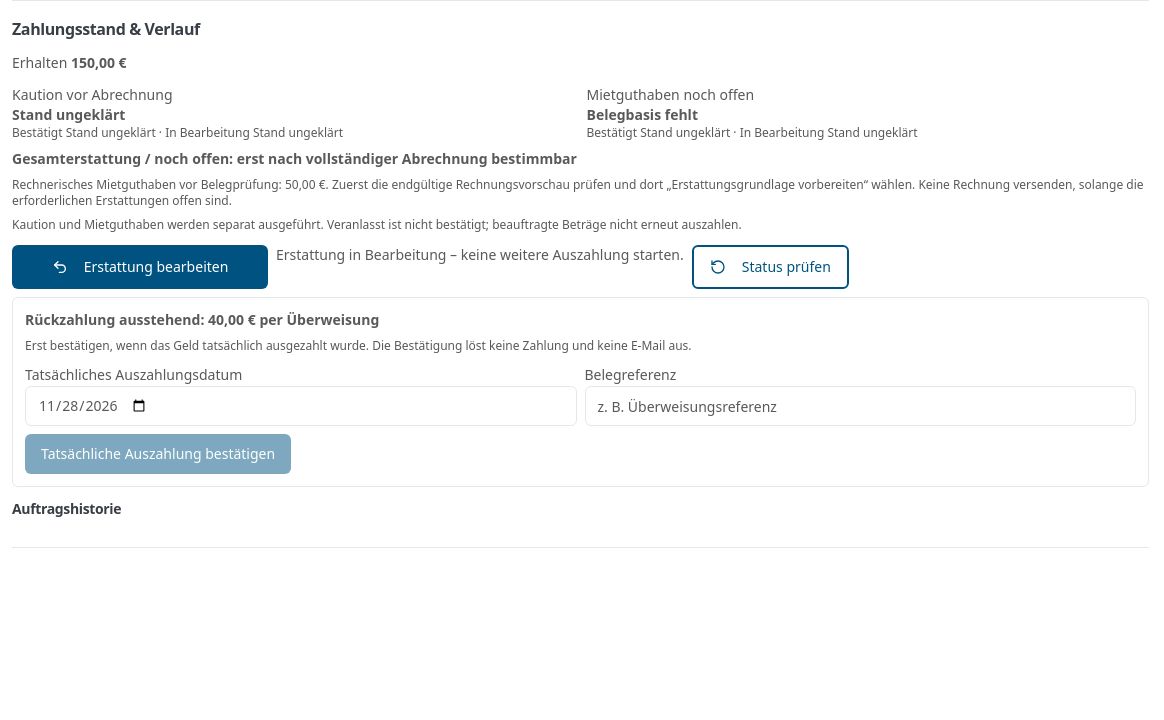
Test case: confirmation needs evidence and a past date, sends both, and only succeeds after the server persisted it
Expected: the text "Rückzahlung ausstehend: 40,00 € per Überweisung" is shown, top-left (25, 310), bottom-right (379, 329)
Expected: the button "Tatsächliche Auszahlung bestätigen" is disabled, top-left (25, 434), bottom-right (291, 474)
Type "Kasse 7" into the field labelled "Belegreferenz" at (860,406), box top-left (584, 386), bottom-right (1136, 426)
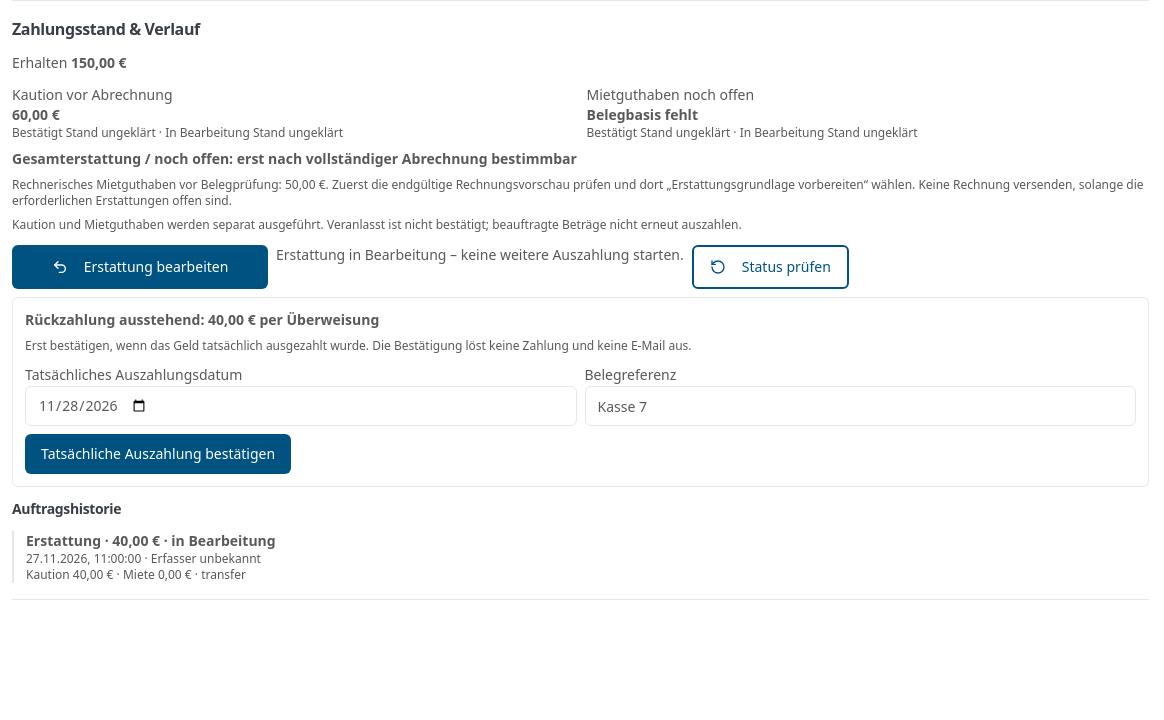
Type "2999-01-01" into the date field labelled "Tatsächliches Auszahlungsdatum" at (301,406), box top-left (25, 386), bottom-right (576, 426)
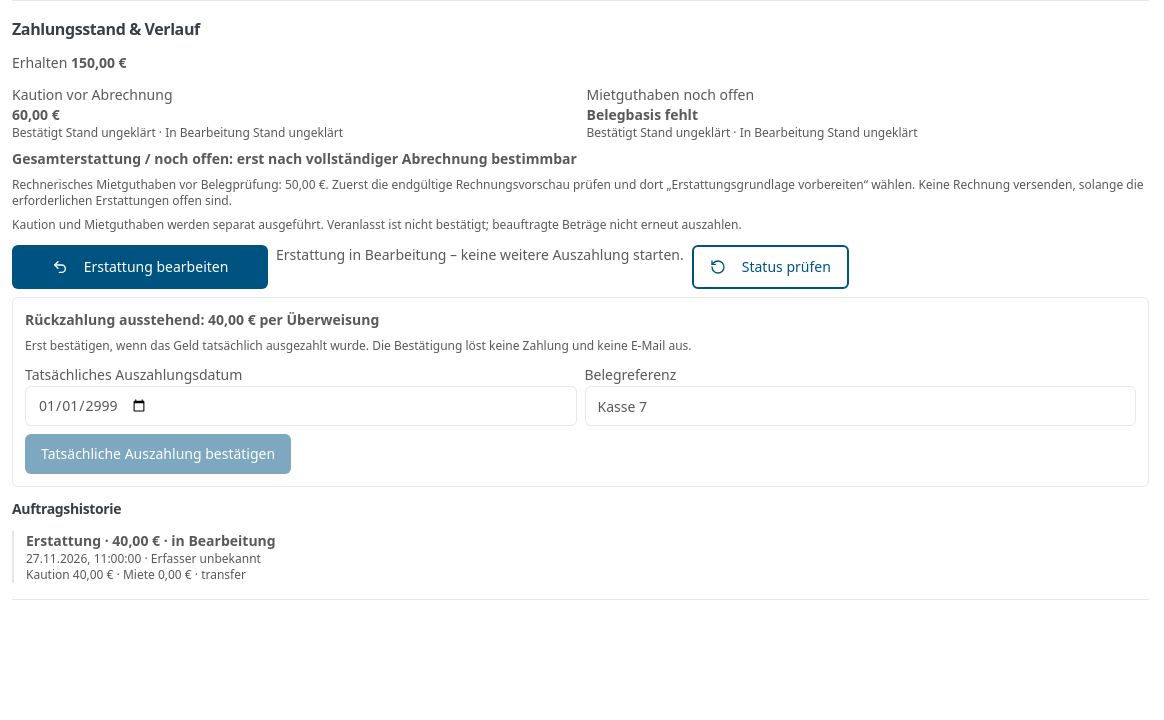
Now the button "Tatsächliche Auszahlung bestätigen" is disabled, box top-left (25, 434), bottom-right (291, 474)
Type "2026-11-27" into the date field labelled "Tatsächliches Auszahlungsdatum" at (301,406), box top-left (25, 386), bottom-right (576, 426)
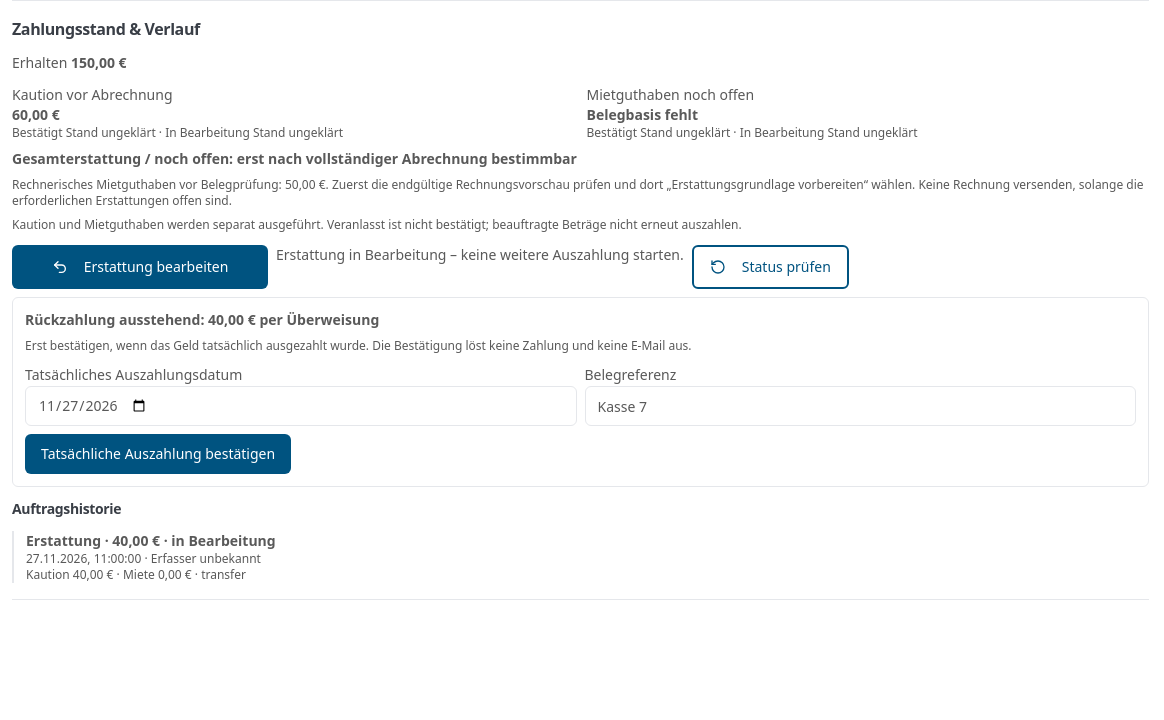
Click the button "Tatsächliche Auszahlung bestätigen" at (158,454), box top-left (25, 434), bottom-right (291, 474)
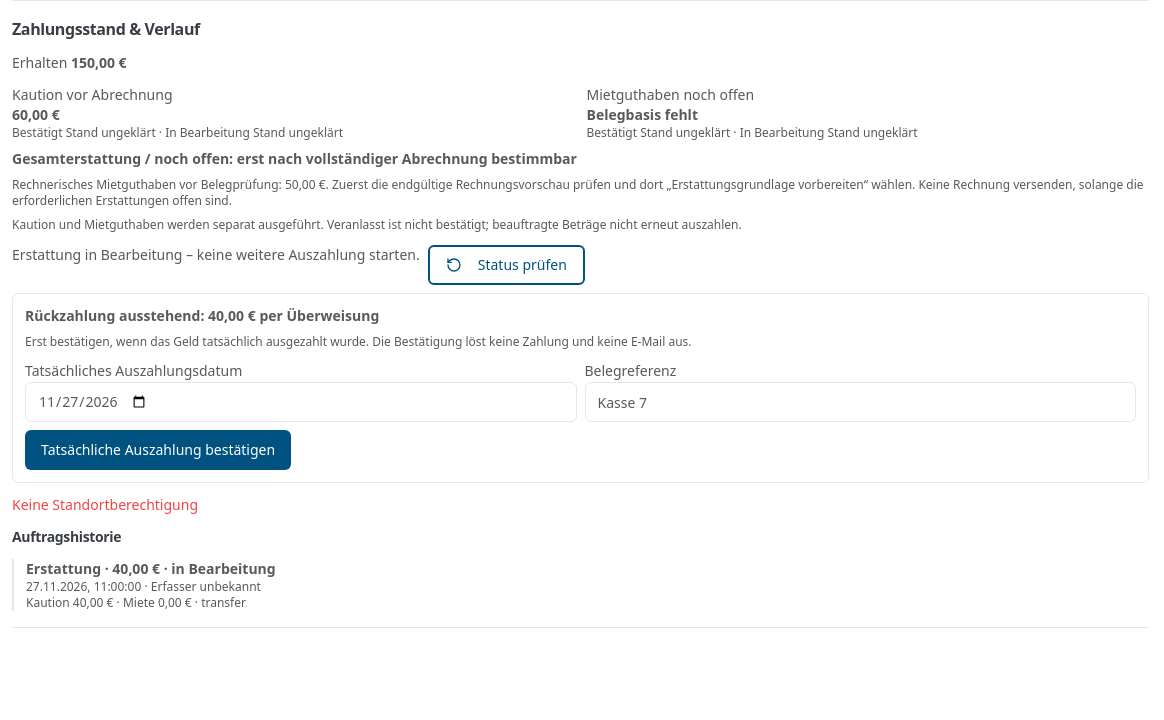
Now the text "Keine Standortberechtigung" is shown, box top-left (12, 495), bottom-right (198, 514)
Click the button "Tatsächliche Auszahlung bestätigen" at (158,450), box top-left (25, 430), bottom-right (291, 470)
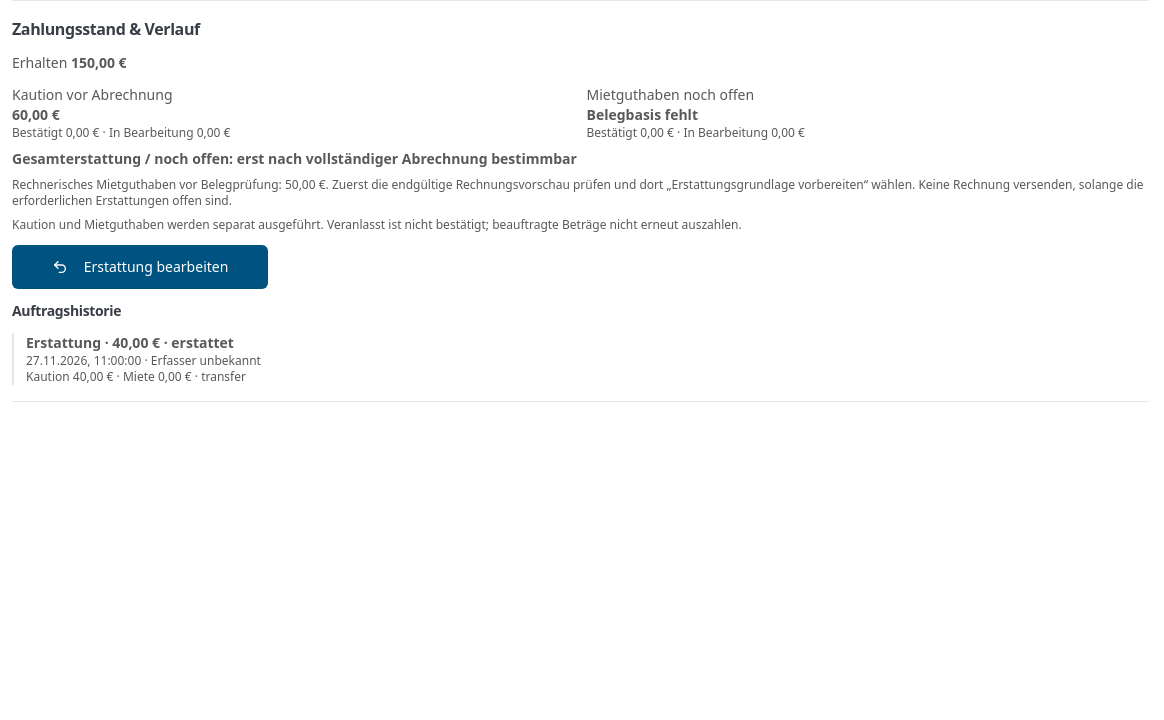
Now the button "Tatsächliche Auszahlung bestätigen" is gone
